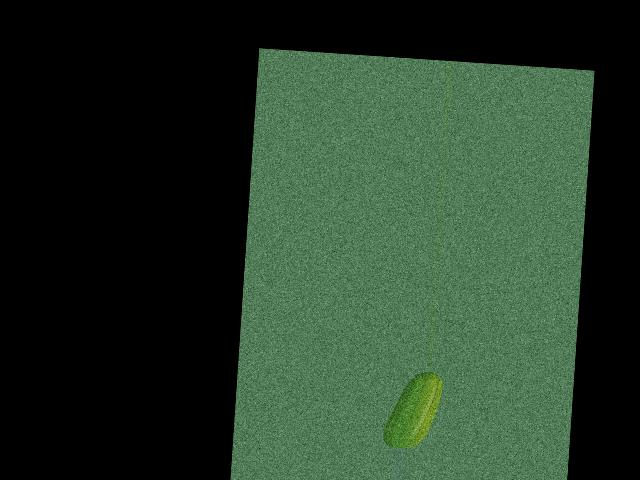cucumber: (381, 369, 443, 451)
